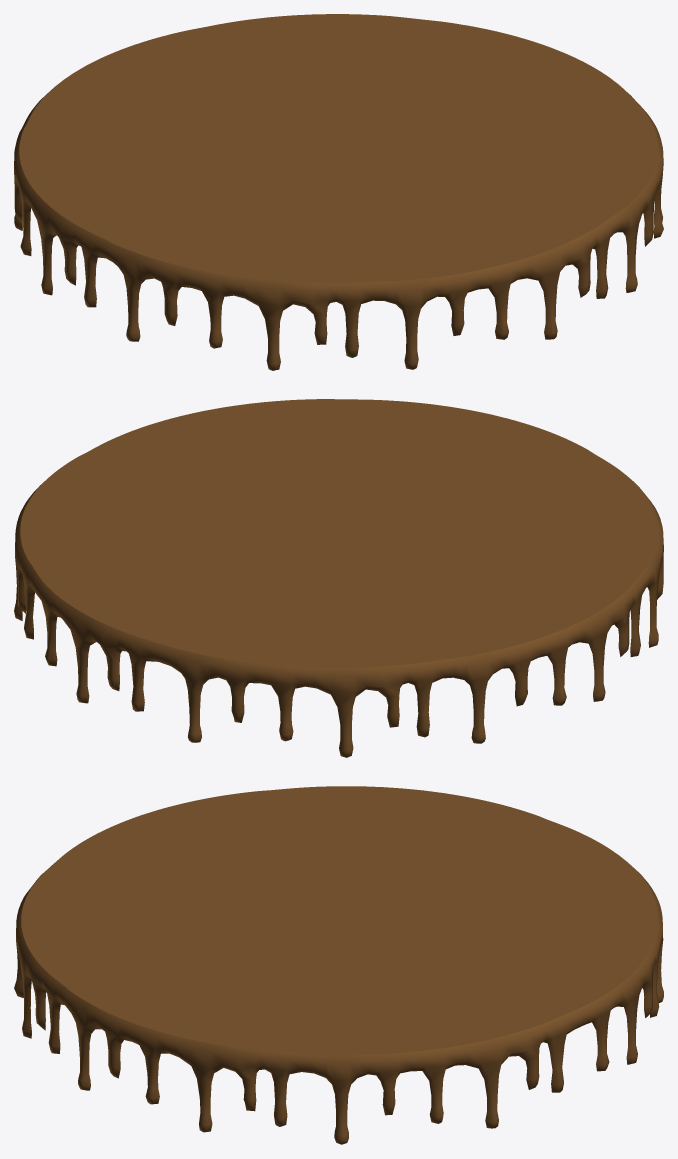
File: Cake_Lrg_itemsTop_icing-ShortDrops.FBX
3 renders of one model, top to bottom at view 1: azimuth 30°, elevation 25°; view 2: azimuth 150°, elevation 25°; view 3: azimuth 270°, elevation 25°, orthographic.
Visible parts, largest first — view 1: Cake_Lrg_itemsTop_icing-ShortDrops; view 2: Cake_Lrg_itemsTop_icing-ShortDrops; view 3: Cake_Lrg_itemsTop_icing-ShortDrops.
Part boxes in pixels (box(x1,y1,x2,y2)): Cake_Lrg_itemsTop_icing-ShortDrops: box(14, 14, 663, 370); Cake_Lrg_itemsTop_icing-ShortDrops: box(14, 399, 663, 757); Cake_Lrg_itemsTop_icing-ShortDrops: box(14, 786, 663, 1144).
Bounding box in the file's own units: 9750 × 1503 × 9775.
